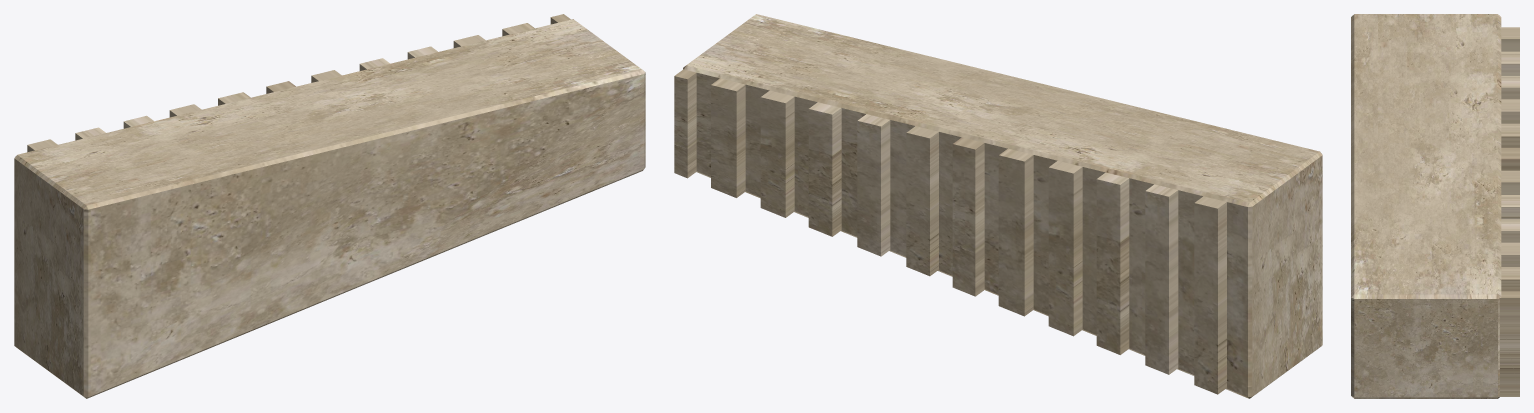
File: roof_face_inner.FBX
3 views of the same model, side by side, from view 1: azimuth 30°, elevation 25°; view 2: azimuth 150°, elevation 25°; view 3: azimuth 270°, elevation 25° (orthographic). The views are drawn at different scales.
Visible parts, largest first — view 1: Box320; view 2: Box320; view 3: Box320.
Boxes of the visible parts, left/top/right/bottom form: Box320: left=14, top=14, right=645, bottom=398; Box320: left=674, top=14, right=1322, bottom=398; Box320: left=1351, top=14, right=1519, bottom=398.
Size of the model in its own units: 200 by 65.81 by 50.34.
